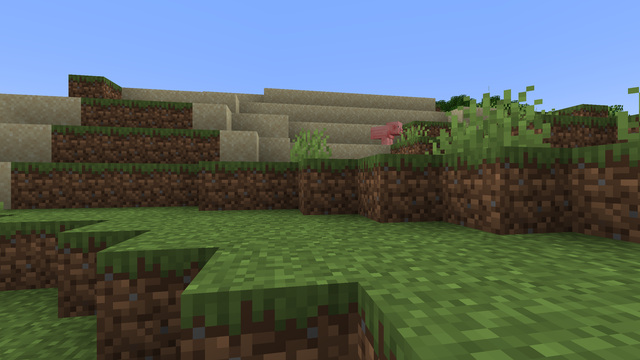cochons: (370, 124, 394, 143)
